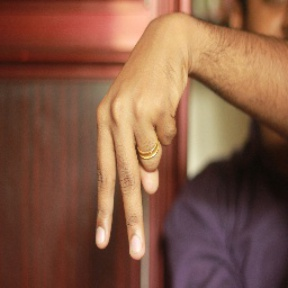Y: (87, 72, 183, 262)
